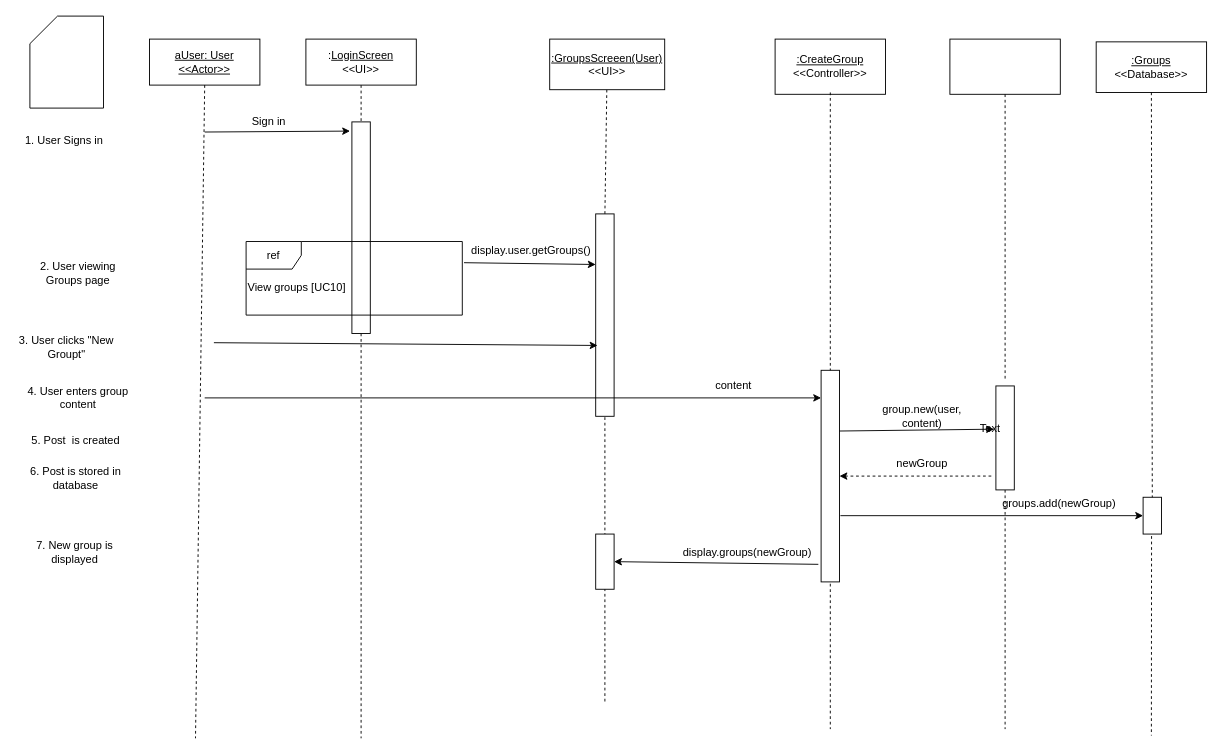
The diagram is 1223 pixels wide and 755 high, and some of its shapes have lost their labels. Each missing label, with the centre of its shape:
":Group <<Object>>" belongs at (x=1004, y=66).
"Use Case For Create Group UC11" belongs at (x=66, y=61).
